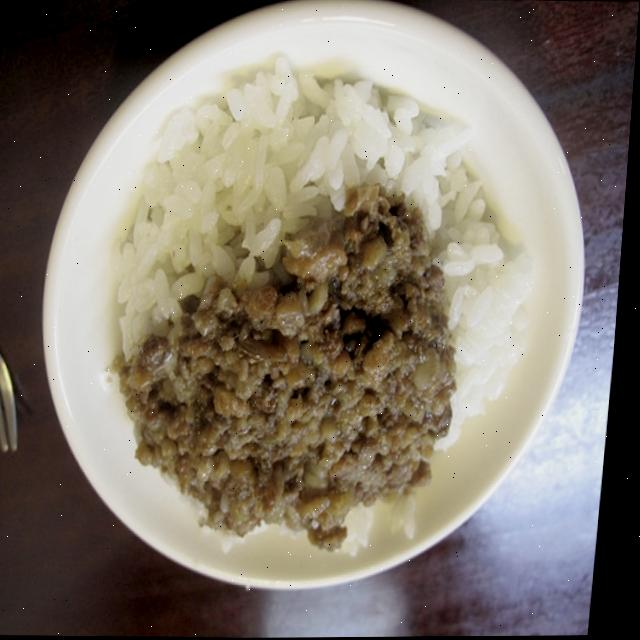猪肉菜式: (57, 43, 552, 570)
